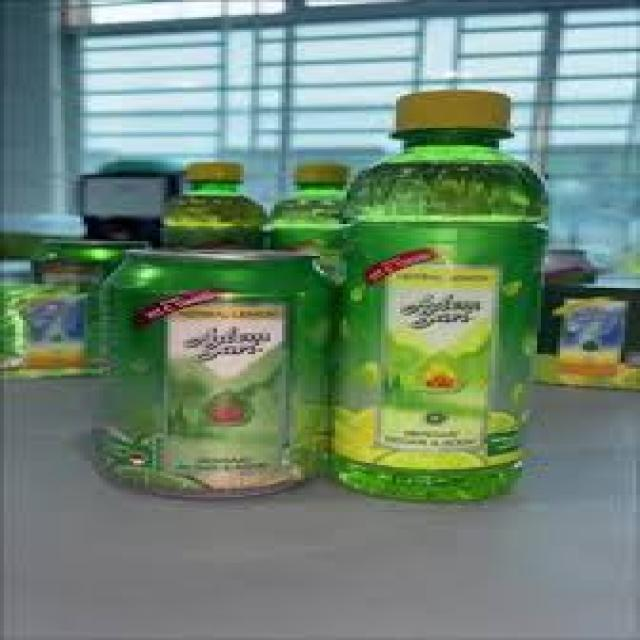ademsarikaleng: (86, 247, 336, 501)
